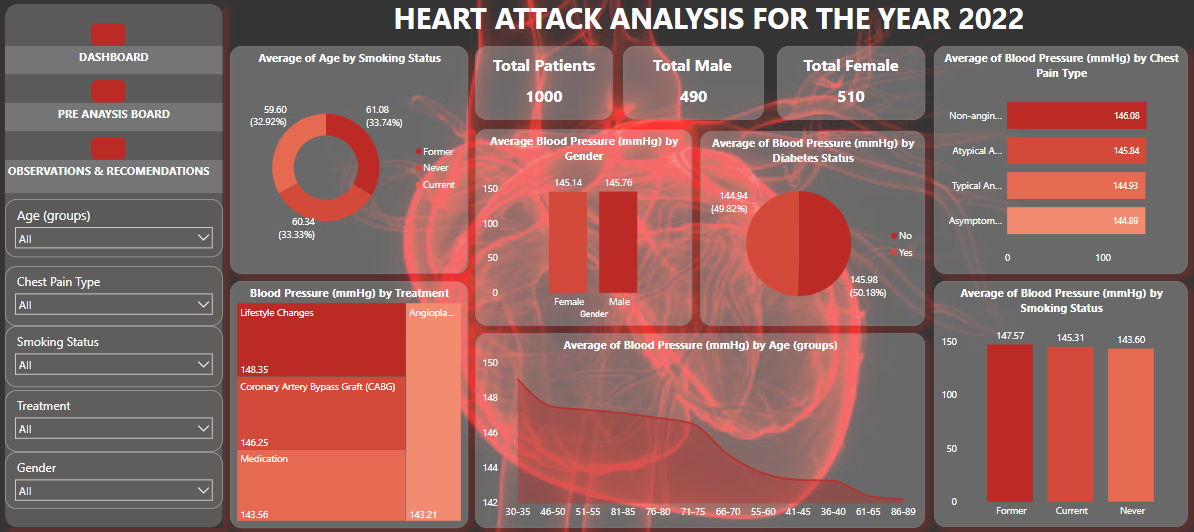

Layout of this report page (visuals, bound fields, positions):
{"tool":"powerbi","page":{"name":"DASHBOARD","canvas":[2000,900],"ordinal":3},"visuals":[{"type":"columnChart","title":"Average Blood Pressure (mmHg) by Gender","fields":{"Category":["heart_attack_dataset.Gender"],"Y":["Avg(heart_attack_dataset.Blood Pressure (mmHg))"]},"box":[795,223.3,361.7,328.3],"z":0},{"type":"lineChart","fields":{"Y":["Avg(heart_attack_dataset.Blood Pressure (mmHg))"],"Category":["heart_attack_dataset.Age (groups)"]},"box":[795,563.3,750,325],"z":1000},{"type":"shape","box":[11.7,15,363.3,873.3],"z":2000},{"type":"clusteredBarChart","fields":{"Category":["heart_attack_dataset.Chest Pain Type"],"Y":["Avg(heart_attack_dataset.Blood Pressure (mmHg))"]},"box":[1560,85,423.3,380],"z":3000},{"type":"donutChart","fields":{"Category":["heart_attack_dataset.Smoking Status"],"Y":["Avg(heart_attack_dataset.Age)"]},"box":[386.7,85,396.7,380],"z":4000},{"type":"treemap","title":"Blood Pressure (mmHg) by Treatment","fields":{"Group":["heart_attack_dataset.Treatment"],"Values":["Avg(heart_attack_dataset.Blood Pressure (mmHg))"]},"box":[386.7,476.7,396.7,411.7],"z":5000},{"type":"columnChart","fields":{"Category":["heart_attack_dataset.Smoking Status"],"Y":["Avg(heart_attack_dataset.Blood Pressure (mmHg))"]},"box":[1560,476.7,423.3,410],"z":6000},{"type":"textbox","box":[795,85,230,123.3],"z":7000},{"type":"textbox","box":[1041.7,85,235,123.3],"z":8000},{"type":"textbox","box":[1298.3,85,246.7,123.3],"z":9000},{"type":"pieChart","title":"Average of Blood Pressure (mmHg) by Diabetes Status","fields":{"Category":["heart_attack_dataset.Has Diabetes"],"Y":["Avg(heart_attack_dataset.Blood Pressure (mmHg))"]},"box":[1170,226.7,375,325],"z":10000},{"type":"textbox","box":[11.7,85,363.3,46.7],"z":11000},{"type":"textbox","box":[11.7,180,363.3,46.7],"z":12000},{"type":"textbox","box":[11.7,275,363.3,55],"z":13000},{"type":"shape","box":[155,46.7,58.3,38.3],"z":14000},{"type":"shape","box":[155,141.7,58.3,38.3],"z":15000},{"type":"shape","box":[155,236.7,58.3,38.3],"z":16000},{"type":"textbox","box":[386.7,0,1596.7,85],"z":17000},{"type":"slicer","fields":{"Values":["heart_attack_dataset.Age (groups)"]},"box":[11.7,340,363.3,96.7],"z":18000},{"type":"slicer","fields":{"Values":["heart_attack_dataset.Gender"]},"box":[11.7,761.7,363.3,95],"z":19000},{"type":"slicer","fields":{"Values":["heart_attack_dataset.Treatment"]},"box":[11.7,658.3,363.3,103.3],"z":20000},{"type":"slicer","fields":{"Values":["heart_attack_dataset.Smoking Status"]},"box":[11.7,551.7,363.3,101.7],"z":21000},{"type":"slicer","fields":{"Values":["heart_attack_dataset.Chest Pain Type"]},"box":[11.7,451.7,363.3,100],"z":22000}]}

Visuals, with their boxes in screenshot pixels (x1, y1, x2, y2), scaled from the page's 2000x900 canvas onto the 1194x532 screenshot:
"Average Blood Pressure (mmHg) by Gender" columnChart: <bbox>475, 132, 691, 326</bbox>
lineChart - Avg(heart_attack_dataset.Blood Pressure (mmHg)) x heart_attack_dataset.Age (groups): <bbox>475, 333, 922, 525</bbox>
shape: <bbox>7, 9, 224, 525</bbox>
clusteredBarChart - heart_attack_dataset.Chest Pain Type x Avg(heart_attack_dataset.Blood Pressure (mmHg)): <bbox>931, 50, 1184, 275</bbox>
donutChart - heart_attack_dataset.Smoking Status x Avg(heart_attack_dataset.Age): <bbox>231, 50, 468, 275</bbox>
"Blood Pressure (mmHg) by Treatment" treemap: <bbox>231, 282, 468, 525</bbox>
columnChart - heart_attack_dataset.Smoking Status x Avg(heart_attack_dataset.Blood Pressure (mmHg)): <bbox>931, 282, 1184, 524</bbox>
textbox: <bbox>475, 50, 612, 123</bbox>
textbox: <bbox>622, 50, 762, 123</bbox>
textbox: <bbox>775, 50, 922, 123</bbox>
"Average of Blood Pressure (mmHg) by Diabetes Status" pieChart: <bbox>698, 134, 922, 326</bbox>
textbox: <bbox>7, 50, 224, 78</bbox>
textbox: <bbox>7, 106, 224, 134</bbox>
textbox: <bbox>7, 163, 224, 195</bbox>
shape: <bbox>93, 28, 127, 50</bbox>
shape: <bbox>93, 84, 127, 106</bbox>
shape: <bbox>93, 140, 127, 163</bbox>
textbox: <bbox>231, 0, 1184, 50</bbox>
slicer - heart_attack_dataset.Age (groups): <bbox>7, 201, 224, 258</bbox>
slicer - heart_attack_dataset.Gender: <bbox>7, 450, 224, 506</bbox>
slicer - heart_attack_dataset.Treatment: <bbox>7, 389, 224, 450</bbox>
slicer - heart_attack_dataset.Smoking Status: <bbox>7, 326, 224, 386</bbox>
slicer - heart_attack_dataset.Chest Pain Type: <bbox>7, 267, 224, 326</bbox>
